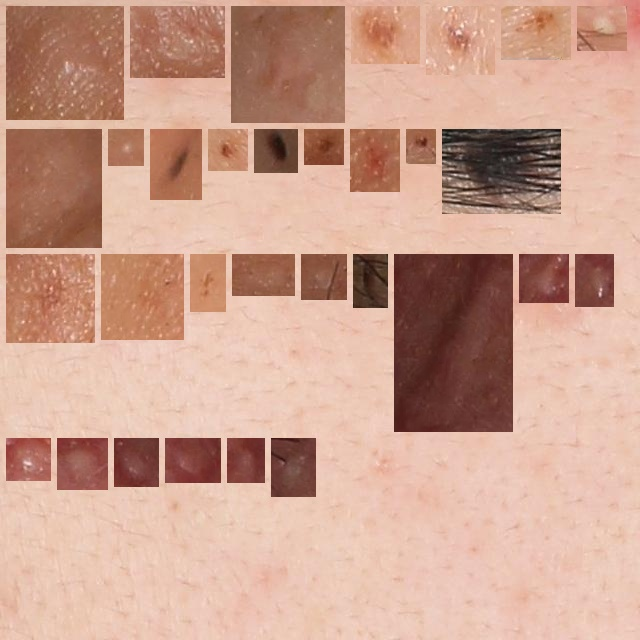hypertrophic_scar: (402, 262, 505, 424), (14, 14, 116, 112), (239, 14, 337, 115), (14, 137, 94, 240), (138, 14, 217, 70), (65, 446, 100, 482), (279, 446, 308, 489), (240, 262, 287, 288), (173, 446, 213, 475), (527, 262, 561, 295), (122, 446, 151, 479), (309, 262, 339, 292), (583, 262, 606, 299), (14, 446, 43, 473), (235, 446, 257, 475)
melasma: (14, 262, 87, 335), (109, 262, 176, 332), (198, 262, 218, 304)
nevus: (450, 137, 553, 206), (434, 14, 487, 67), (359, 14, 412, 56), (509, 14, 563, 52), (158, 137, 194, 192), (358, 137, 392, 184), (262, 137, 290, 165), (361, 262, 380, 300), (216, 137, 240, 163), (312, 137, 336, 157), (414, 137, 428, 156)
pustule: (585, 14, 619, 43), (116, 137, 136, 158)
